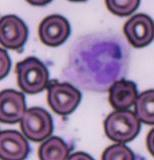N: (63, 31, 131, 90)
